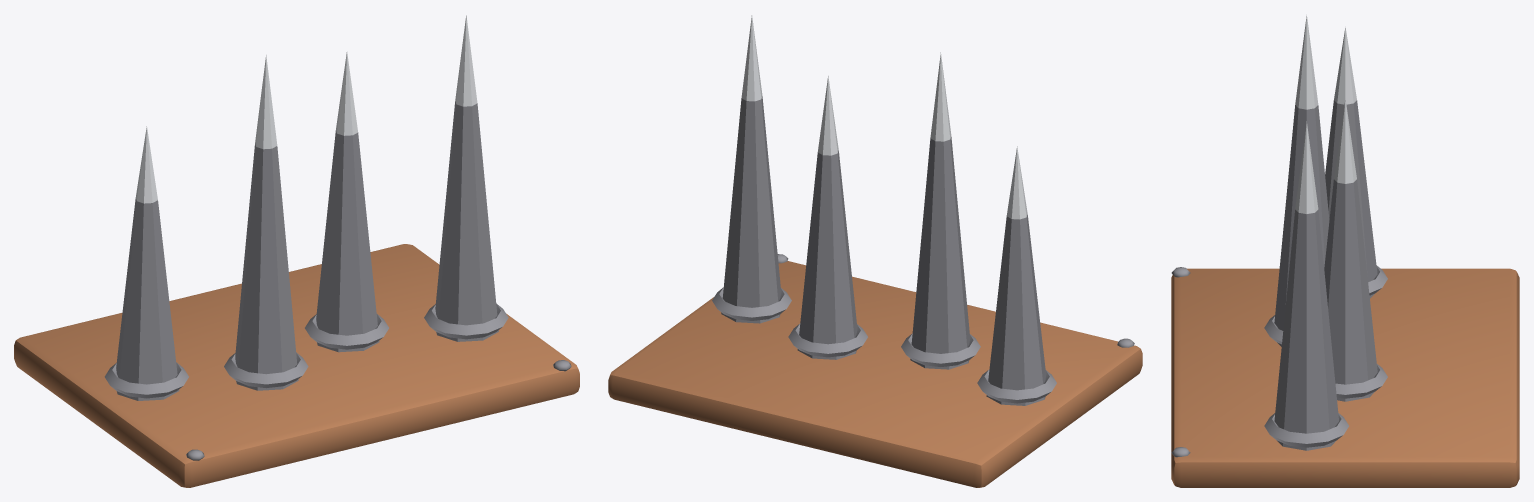
Rendered from hazard_spikes.glb.
The picture shows the model from 3 angles, left to right: view 1: azimuth 30°, elevation 25°; view 2: azimuth 150°, elevation 25°; view 3: azimuth 270°, elevation 25°; orthographic projection. The views are drawn at different scales.
Visible parts, largest first — view 1: hazard_spikes; view 2: hazard_spikes; view 3: hazard_spikes.
Part boxes in pixels (box(x1,y1,x2,y2)): hazard_spikes: box(14, 15, 579, 487); hazard_spikes: box(608, 15, 1142, 487); hazard_spikes: box(1171, 14, 1519, 487).
Bounding box in the file's own units: 0.48 × 0.405 × 0.36.
